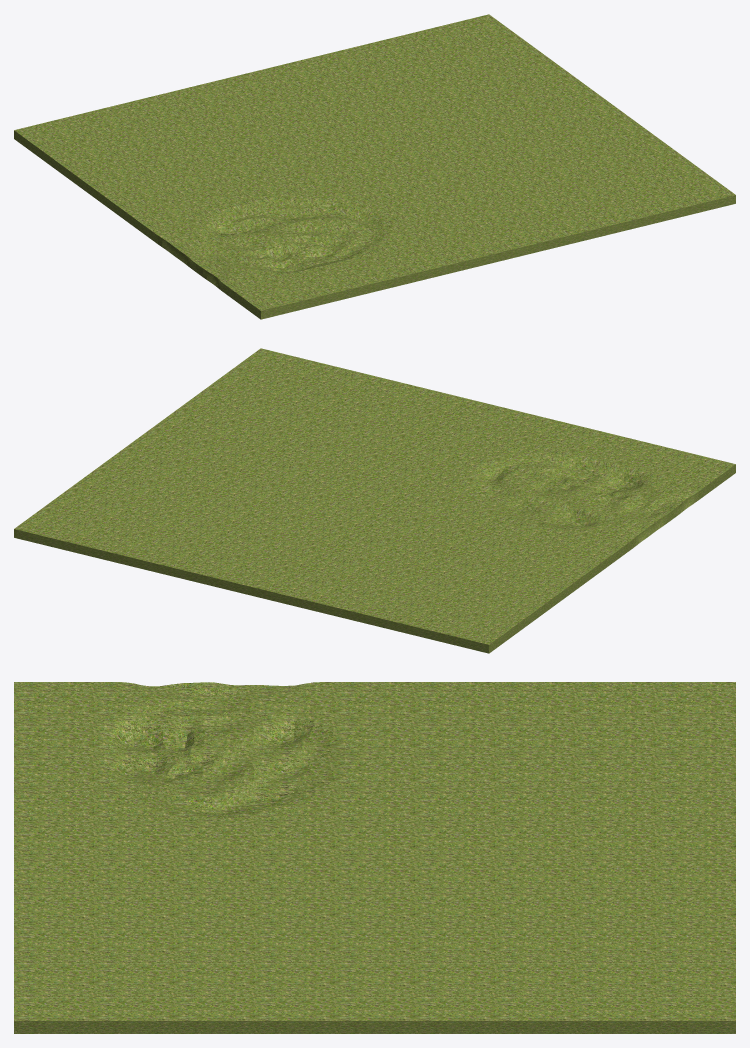
The model's file is grass.obj.
The picture shows the model from 3 angles, top to bottom: view 1: azimuth 30°, elevation 25°; view 2: azimuth 150°, elevation 25°; view 3: azimuth 270°, elevation 25°; orthographic projection. The views are drawn at different scales.
Visible parts, largest first — view 1: Zeme_Cube.015; view 2: Zeme_Cube.015; view 3: Zeme_Cube.015.
Boxes of the visible parts, left/top/right/bottom form: Zeme_Cube.015: left=14, top=14, right=735, bottom=319; Zeme_Cube.015: left=14, top=348, right=735, bottom=653; Zeme_Cube.015: left=14, top=682, right=735, bottom=1033.
Bounding box in the file's own units: 20 × 0.4736 × 18.
Materials: 1 (1 with a texture image).
